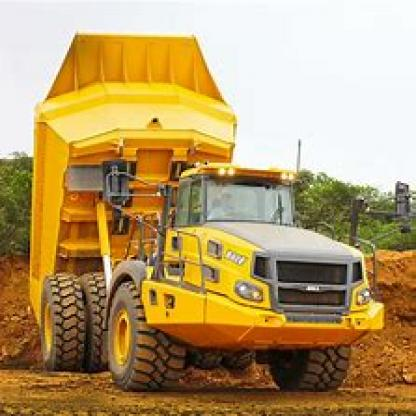dump_truck: (11, 18, 381, 394)
